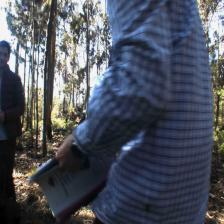trunktrack_idkeyframe: (41, 38, 56, 152)
